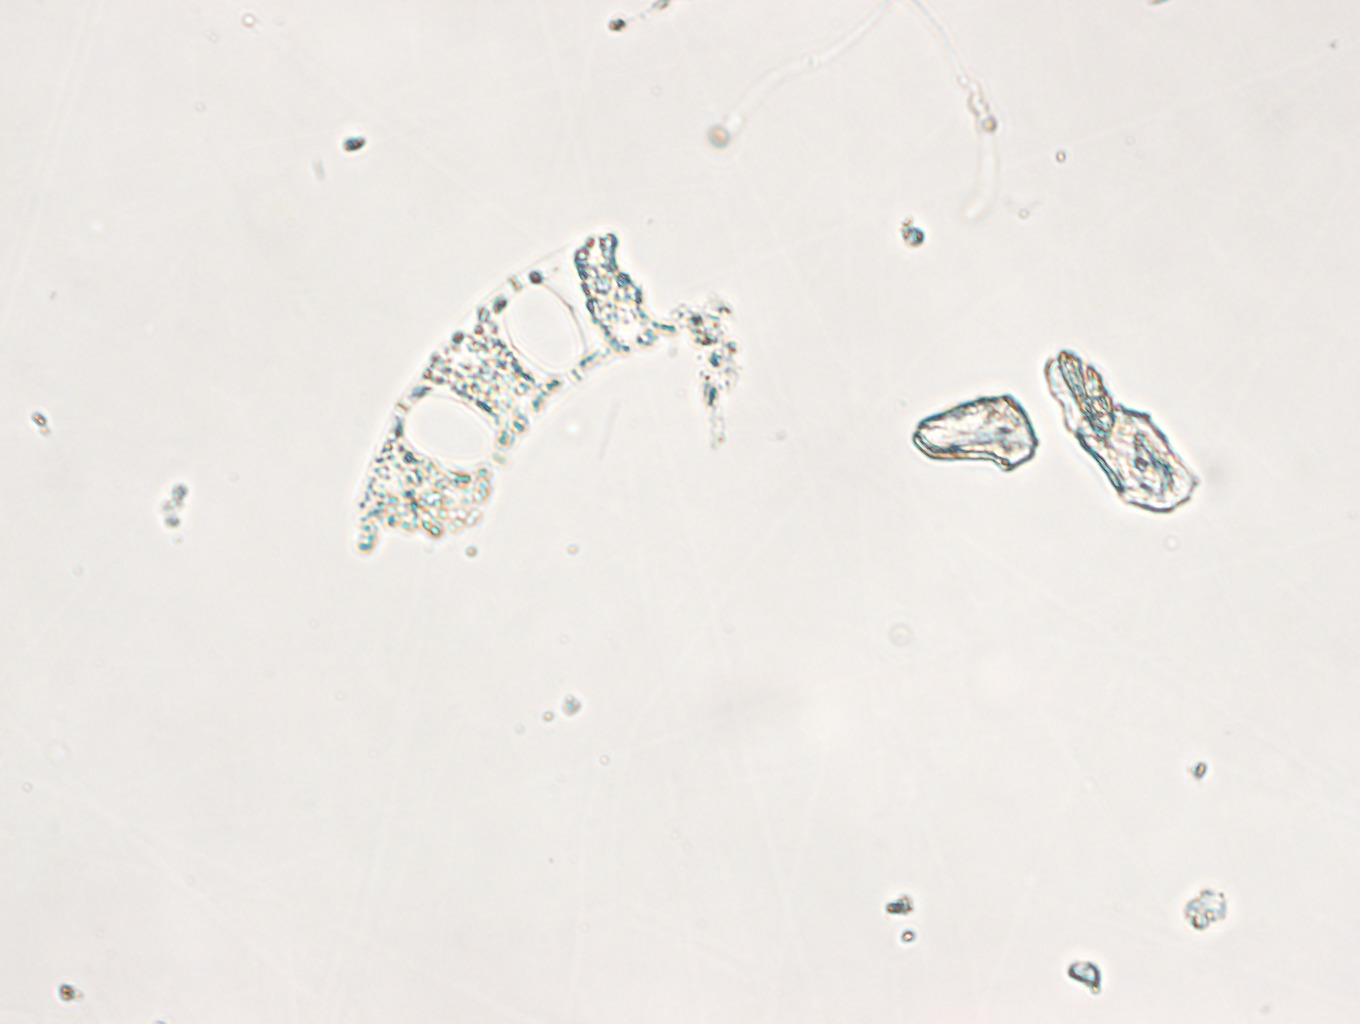eucampia: (348, 232, 657, 558)
